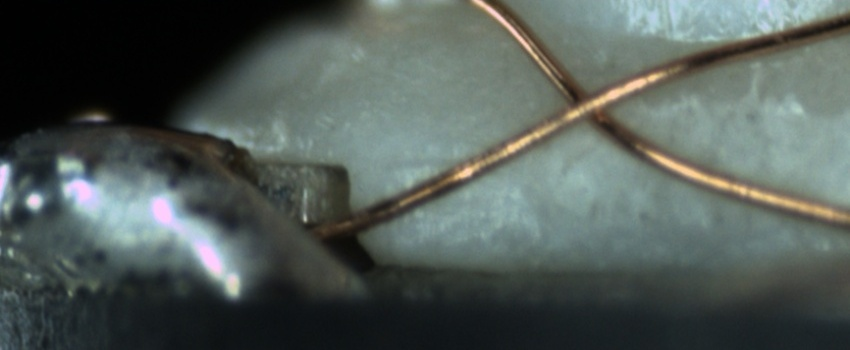CL: (547, 67, 635, 138)
DL: (387, 132, 514, 199)
